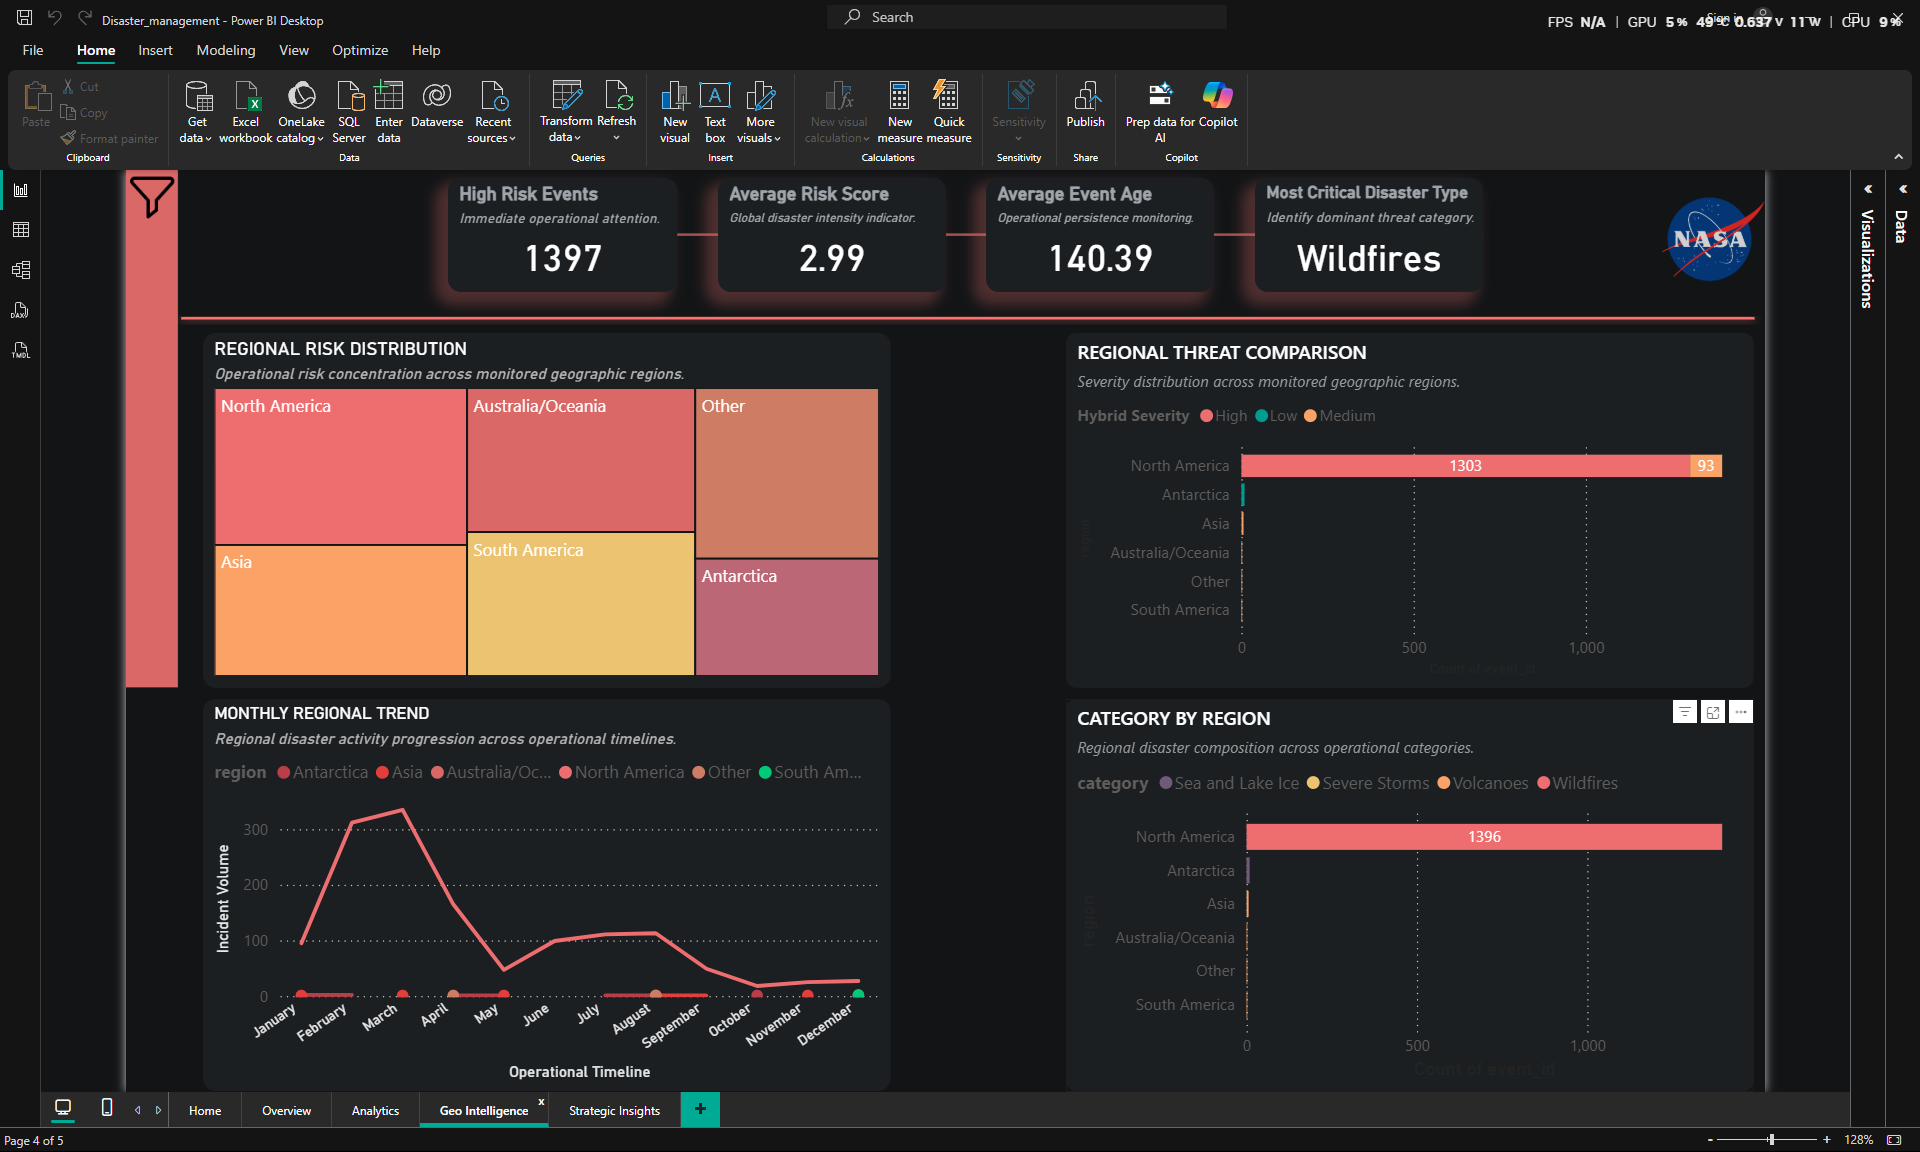

Layout of this report page (visuals, bound fields, positions):
{"tool":"powerbi","page":{"name":"Geo Intelligence","canvas":[1280,720],"ordinal":3},"visuals":[{"type":"shape","box":[251.4,12.7,808.3,75.9],"z":0},{"type":"card","title":"Average Risk Score","fields":{"Values":["Measure.Average Risk Score"]},"box":[462.1,5.9,178,88.6],"z":1000},{"type":"card","title":"Average Event Age","fields":{"Values":["Measure.Average Event Age"]},"box":[671.9,5.9,178,88.6],"z":2000},{"type":"card","title":"High Risk Events","fields":{"Values":["Measure.High Risk Events"]},"box":[251.4,5.9,178.9,88.6],"z":3000},{"type":"card","title":"Most Critical Disaster Type","fields":{"Values":["Measure.Most Critical Disaster Type"]},"box":[881.7,5.9,178,88.6],"z":4000},{"type":"image","box":[1199.8,14.3,80.2,80.2],"z":5000},{"type":"shape","box":[0,0,40.5,404.2],"z":6000},{"type":"treemap","title":"REGIONAL RISK DISTRIBUTION","fields":{"Group":["disaster_events.region"],"Values":["Avg(disaster_events.Enhanced Risk Score)"]},"box":[60.2,127.4,536.9,276.9],"z":7000},{"type":"image","box":[0,0,40.5,41.3],"z":8000},{"type":"shape","box":[35.4,108,1244.6,12.7],"z":10000},{"type":"barChart","title":"REGIONAL THREAT COMPARISON","fields":{"Category":["disaster_events.region"],"Y":["CountNonNull(disaster_events.event_id)"],"Series":["disaster_events.Hybrid Severity"]},"box":[734.1,127.4,537.5,276.8],"z":11000},{"type":"lineChart","title":"MONTHLY REGIONAL TREND","fields":{"Y":["CountNonNull(disaster_events.event_id)"],"Series":["disaster_events.region"],"Category":["disaster_events.month_name"]},"box":[59.9,413.4,536.6,306.3],"z":12000},{"type":"barChart","title":"CATEGORY BY REGION","fields":{"Category":["disaster_events.region"],"Y":["CountNonNull(disaster_events.event_id)"],"Series":["disaster_events.category"]},"box":[734.1,413.4,537.5,306.3],"z":14000}]}

Visuals, with their boxes on the page's 1280x720 design canvas (x1, y1, x2, y2). These are canvas units, not pixel positions in the 1920x1152 screenshot, which may show the page scaled, cropped or inside an application window:
shape: bbox=(251, 13, 1060, 89)
"Average Risk Score" card: bbox=(462, 6, 640, 94)
"Average Event Age" card: bbox=(672, 6, 850, 94)
"High Risk Events" card: bbox=(251, 6, 430, 94)
"Most Critical Disaster Type" card: bbox=(882, 6, 1060, 94)
image: bbox=(1200, 14, 1280, 94)
shape: bbox=(0, 0, 40, 404)
"REGIONAL RISK DISTRIBUTION" treemap: bbox=(60, 127, 597, 404)
image: bbox=(0, 0, 40, 41)
shape: bbox=(35, 108, 1280, 121)
"REGIONAL THREAT COMPARISON" barChart: bbox=(734, 127, 1272, 404)
"MONTHLY REGIONAL TREND" lineChart: bbox=(60, 413, 596, 720)
"CATEGORY BY REGION" barChart: bbox=(734, 413, 1272, 720)
